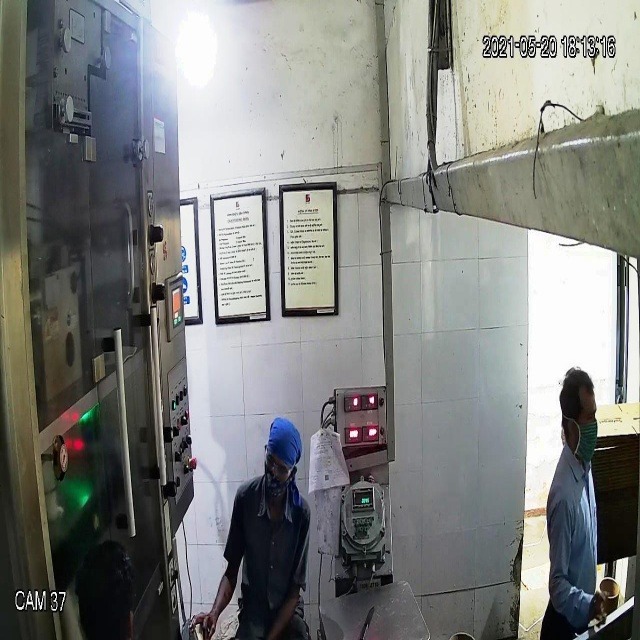Gafas: (261, 443, 295, 483)
Sin_gafas: (566, 403, 602, 436)
